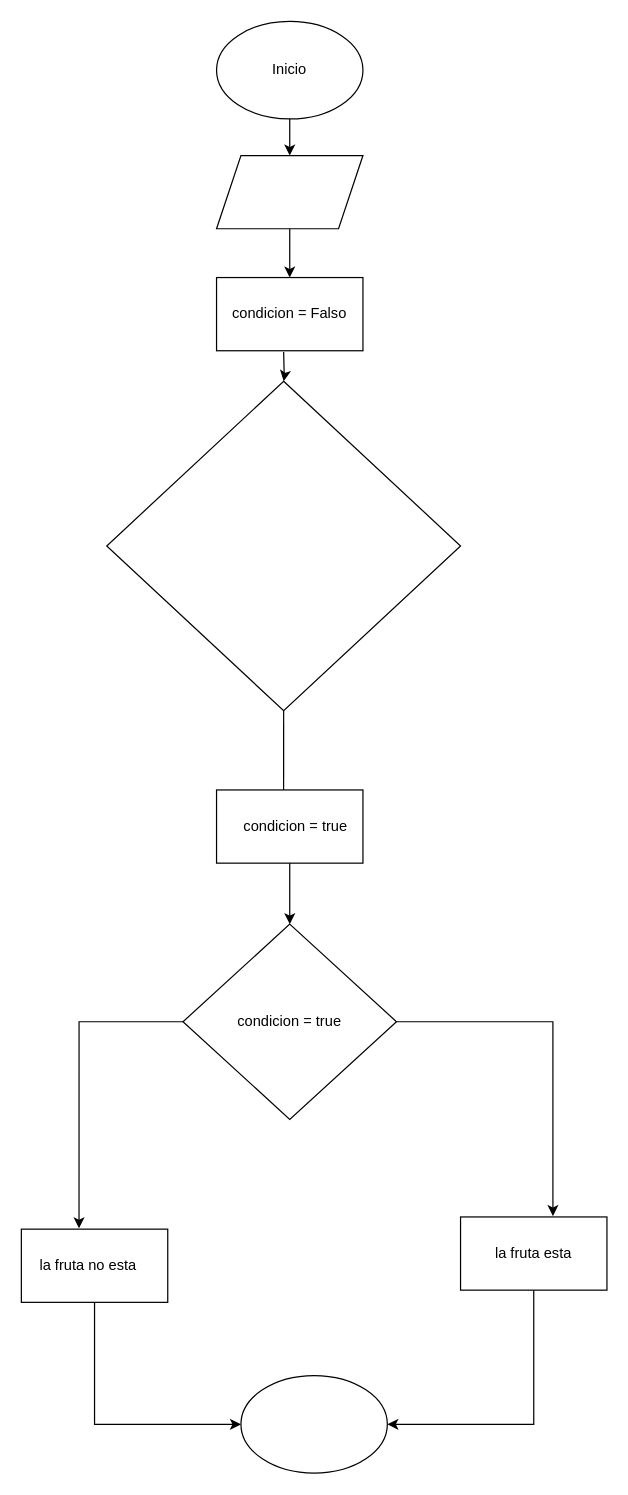
Image size: 628x1495. Some labels were removed from this diagram. The shapes that lost their labels are listed below. From the top down, each one's centre as x and y in pixels, then its label:
At point (289, 191): "leer fruta ingresada del usuario".
At point (283, 545): "Fruta ingresada por el usuario === fruta del array".
At point (313, 1423): "Fin".
